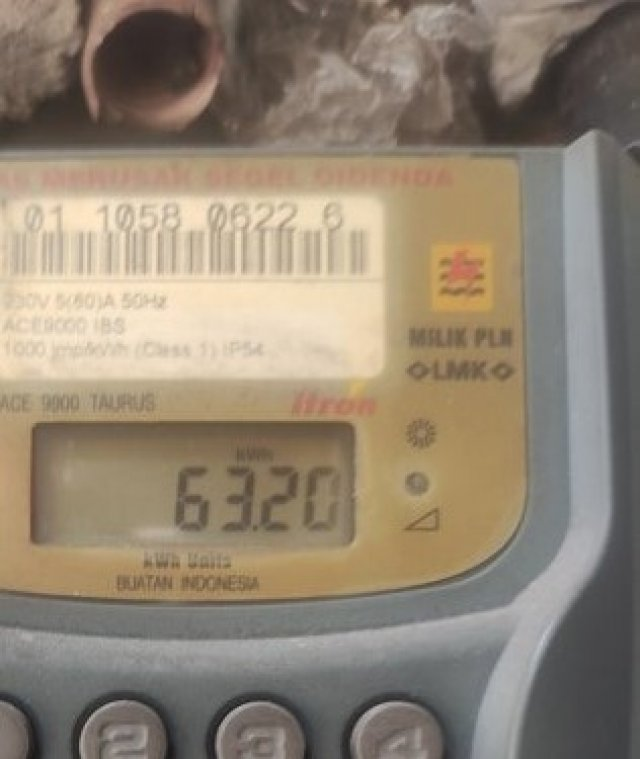box: (31, 423, 357, 546)
